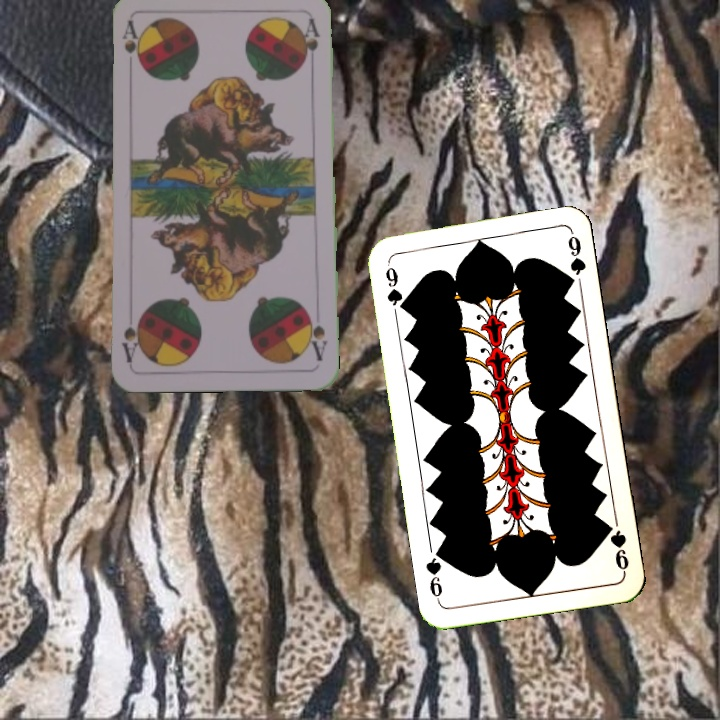G9: (601, 519, 632, 576), (381, 258, 409, 317)
SA: (303, 306, 330, 364), (118, 17, 143, 69)
